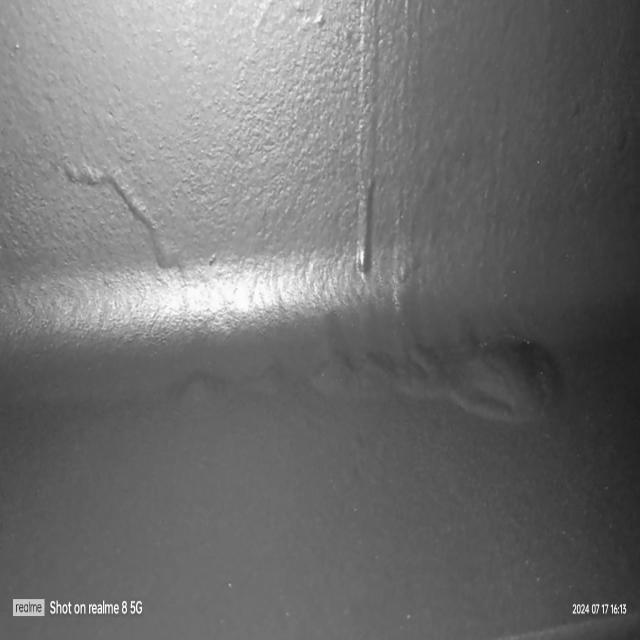paint drips: (342, 0, 422, 290), (48, 125, 192, 279)
